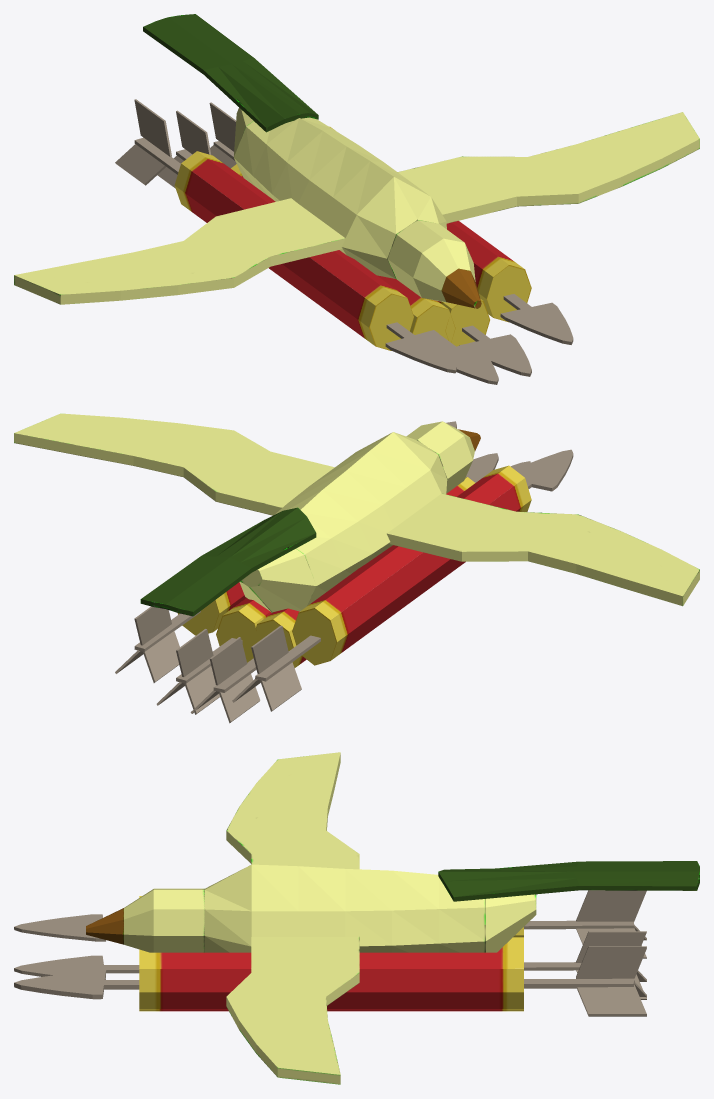
The model's file is darkness_projectile_rocket2.FBX.
3 renders of one model, top to bottom at view 1: azimuth 30°, elevation 25°; view 2: azimuth 150°, elevation 25°; view 3: azimuth 270°, elevation 25°, orthographic.
Parts seen in each view (by area): view 1: Object010; view 2: Object010; view 3: Object010.
Boxes of the visible parts, box(x1,y1,x2,y2) form: Object010: box(14, 14, 699, 384); Object010: box(14, 413, 699, 723); Object010: box(14, 752, 699, 1084).
Size of the model in its own units: 10.51 by 2.1 by 9.44.
